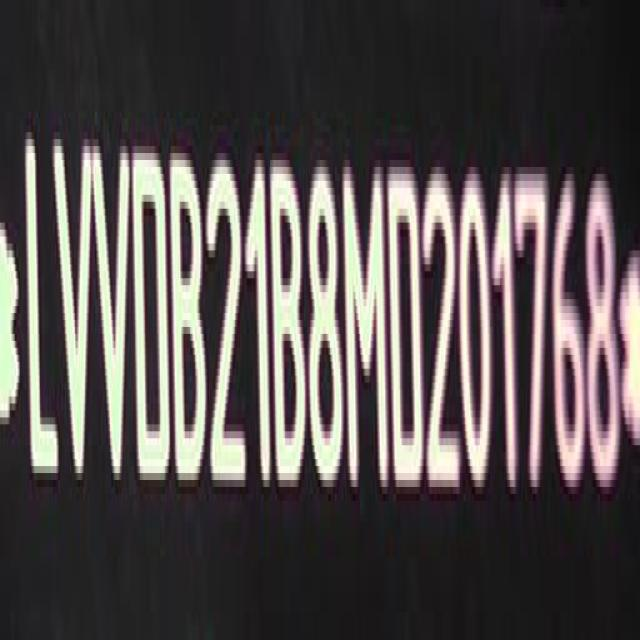0: (458, 166, 492, 500)
1: (492, 170, 520, 502), (249, 154, 273, 495)
2: (208, 154, 246, 497), (425, 164, 460, 499)
6: (552, 169, 588, 496)
7: (518, 162, 552, 500)
8: (308, 158, 342, 491), (587, 174, 621, 492)
B: (170, 138, 206, 482), (272, 154, 307, 491)
D: (132, 141, 169, 489), (392, 162, 425, 496)
L: (22, 119, 58, 479)
M: (344, 158, 388, 496)
V: (55, 133, 95, 487), (95, 135, 134, 489)
